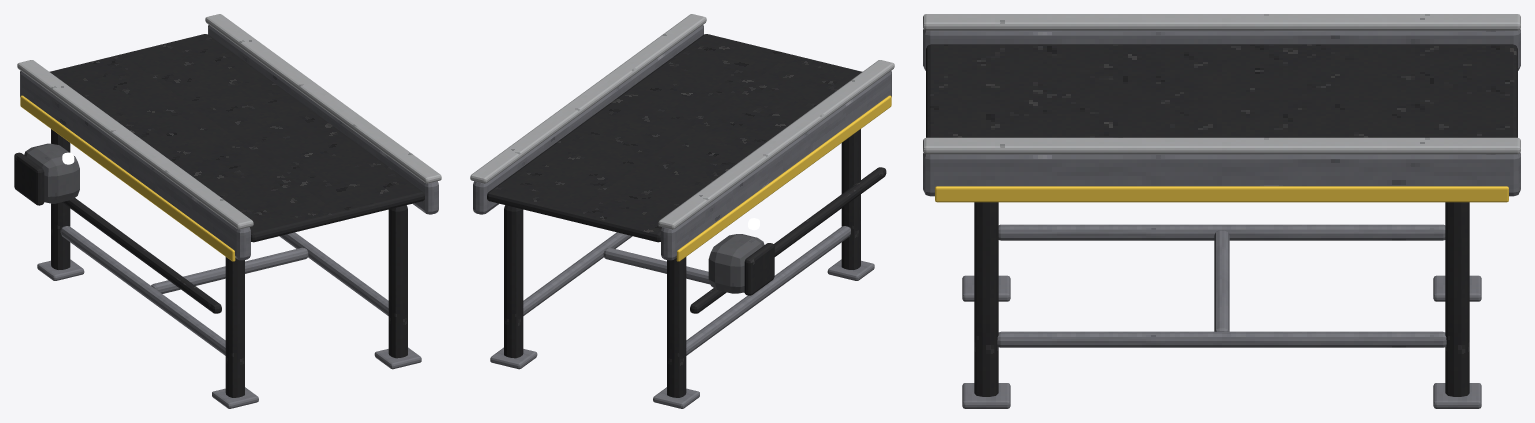
File: decor_cargo_belt_module.glb
The picture shows the model from 3 angles, left to right: view 1: azimuth 30°, elevation 25°; view 2: azimuth 150°, elevation 25°; view 3: azimuth 270°, elevation 25°; orthographic projection. The views are drawn at different scales.
Parts seen in each view (by area): view 1: DEC_CargoBeltModule__Bed, DEC_CargoBeltModule__Rail_L, DEC_CargoBeltModule__Rail_Cap_L, DEC_CargoBeltModule__Rail_Cap_R, DEC_CargoBeltModule__Leg_R_A, DEC_CargoBeltModule__Rail_R, DEC_CargoBeltModule__Hazard_L, DEC_CargoBeltModule__Leg_L_A, DEC_CargoBeltModule__Brace_L, DEC_CargoBeltModule__Conduit, DEC_CargoBeltModule__Motor, DEC_CargoBeltModule__Brace_R (+6 smaller); view 2: DEC_CargoBeltModule__Bed, DEC_CargoBeltModule__Rail_L, DEC_CargoBeltModule__Rail_Cap_L, DEC_CargoBeltModule__Rail_Cap_R, DEC_CargoBeltModule__Leg_R_B, DEC_CargoBeltModule__Rail_R, DEC_CargoBeltModule__Hazard_L, DEC_CargoBeltModule__Leg_L_B, DEC_CargoBeltModule__Brace_L, DEC_CargoBeltModule__Leg_L_A, DEC_CargoBeltModule__Motor, DEC_CargoBeltModule__Conduit (+6 smaller); view 3: DEC_CargoBeltModule__Bed, DEC_CargoBeltModule__Rail_R, DEC_CargoBeltModule__Rail_Cap_R, DEC_CargoBeltModule__Rail_Cap_L, DEC_CargoBeltModule__Hazard_R, DEC_CargoBeltModule__Rail_L, DEC_CargoBeltModule__Brace_R, DEC_CargoBeltModule__Brace_L, DEC_CargoBeltModule__Leg_R_A, DEC_CargoBeltModule__Leg_R_B, DEC_CargoBeltModule__Cross_Brace, DEC_CargoBeltModule__Foot_R_A (+3 smaller).
Boxes of the visible parts, x1=… form: DEC_CargoBeltModule__Bed: x1=49, y1=34, x2=424, y2=242; DEC_CargoBeltModule__Rail_L: x1=20, y1=70, x2=250, y2=260; DEC_CargoBeltModule__Rail_Cap_L: x1=17, y1=60, x2=253, y2=229; DEC_CargoBeltModule__Rail_Cap_R: x1=205, y1=14, x2=441, y2=183; DEC_CargoBeltModule__Leg_R_A: x1=388, y1=205, x2=407, y2=358; DEC_CargoBeltModule__Rail_R: x1=208, y1=25, x2=438, y2=214; DEC_CargoBeltModule__Hazard_L: x1=20, y1=95, x2=235, y2=261; DEC_CargoBeltModule__Leg_L_A: x1=225, y1=257, x2=244, y2=397; DEC_CargoBeltModule__Brace_L: x1=60, y1=226, x2=225, y2=355; DEC_CargoBeltModule__Conduit: x1=62, y1=198, x2=221, y2=313; DEC_CargoBeltModule__Motor: x1=24, y1=143, x2=79, y2=203; DEC_CargoBeltModule__Brace_R: x1=279, y1=232, x2=388, y2=315; DEC_CargoBeltModule__Bed: x1=487, y1=34, x2=862, y2=242; DEC_CargoBeltModule__Rail_L: x1=661, y1=70, x2=891, y2=260; DEC_CargoBeltModule__Rail_Cap_L: x1=658, y1=60, x2=894, y2=229; DEC_CargoBeltModule__Rail_Cap_R: x1=470, y1=14, x2=706, y2=183; DEC_CargoBeltModule__Leg_R_B: x1=504, y1=205, x2=523, y2=358; DEC_CargoBeltModule__Rail_R: x1=473, y1=25, x2=703, y2=214; DEC_CargoBeltModule__Hazard_L: x1=676, y1=95, x2=891, y2=261; DEC_CargoBeltModule__Leg_L_B: x1=667, y1=257, x2=686, y2=397; DEC_CargoBeltModule__Brace_L: x1=686, y1=226, x2=850, y2=355; DEC_CargoBeltModule__Leg_L_A: x1=841, y1=129, x2=860, y2=269; DEC_CargoBeltModule__Motor: x1=708, y1=234, x2=764, y2=293; DEC_CargoBeltModule__Conduit: x1=690, y1=167, x2=886, y2=313; DEC_CargoBeltModule__Bed: x1=926, y1=44, x2=1517, y2=137; DEC_CargoBeltModule__Rail_R: x1=923, y1=153, x2=1520, y2=196; DEC_CargoBeltModule__Rail_Cap_R: x1=923, y1=137, x2=1520, y2=154; DEC_CargoBeltModule__Rail_Cap_L: x1=923, y1=14, x2=1520, y2=30; DEC_CargoBeltModule__Hazard_R: x1=935, y1=186, x2=1508, y2=202; DEC_CargoBeltModule__Rail_L: x1=923, y1=29, x2=1520, y2=70; DEC_CargoBeltModule__Brace_R: x1=997, y1=331, x2=1446, y2=347; DEC_CargoBeltModule__Brace_L: x1=998, y1=224, x2=1445, y2=240; DEC_CargoBeltModule__Leg_R_A: x1=974, y1=202, x2=998, y2=396; DEC_CargoBeltModule__Leg_R_B: x1=1445, y1=202, x2=1469, y2=396; DEC_CargoBeltModule__Cross_Brace: x1=1214, y1=230, x2=1229, y2=331; DEC_CargoBeltModule__Foot_R_A: x1=962, y1=383, x2=1010, y2=408.
Bounding box in the file's own units: 1.27 × 0.973 × 1.98.
6 materials, 4 textured.
